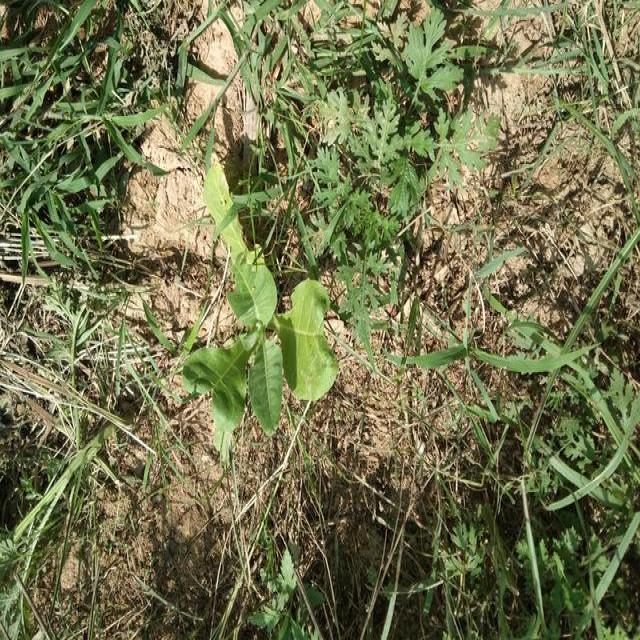crop: (190, 168, 332, 444)
